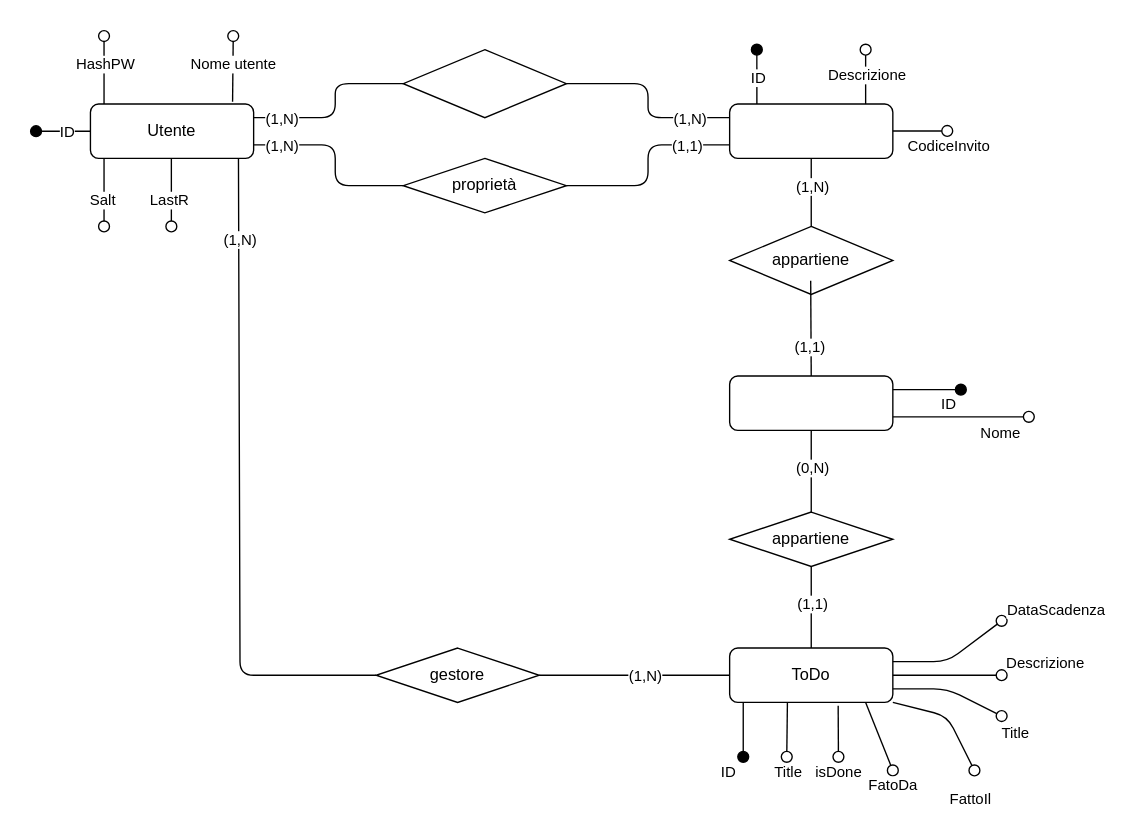
Some shapes in this 1129 by 831 pixel diagram are drawn without their labels. The box of each missing label's shape, as (x1, y1, x2, y2) in pixels:
appartenere: (402, 48, 566, 118)
ListaToDo: (728, 375, 893, 430)
Team: (728, 103, 893, 158)
